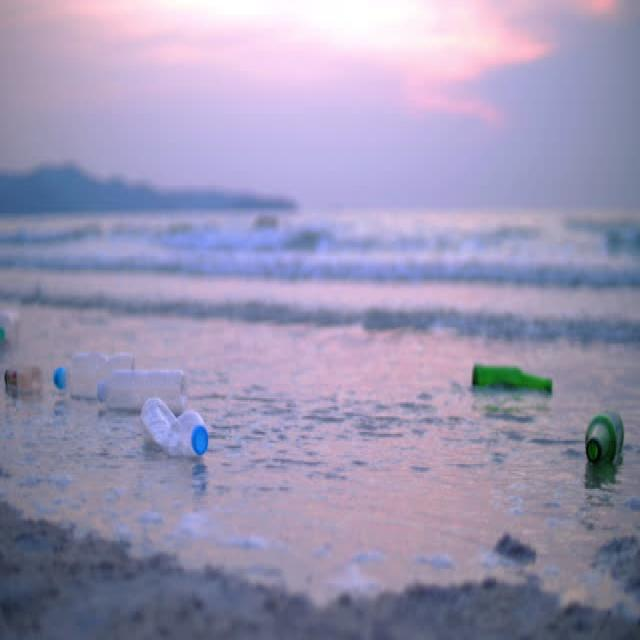garbage: (47, 352, 219, 463), (578, 400, 632, 487), (467, 353, 556, 400), (1, 354, 46, 402), (0, 307, 27, 347)
